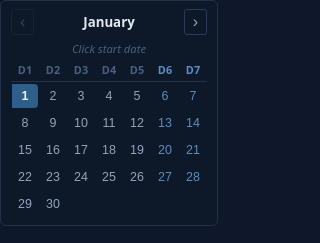
Test: CalendarDayPicker › first click in range mode sets start and switches hint to end
Click the button with class "day-btn" showing "5": (137, 96) [124,84,150,108]
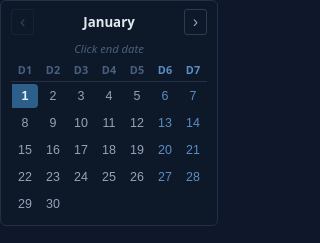
Check: the text with class "range-hint" shows "end", box [74,41,144,56]
